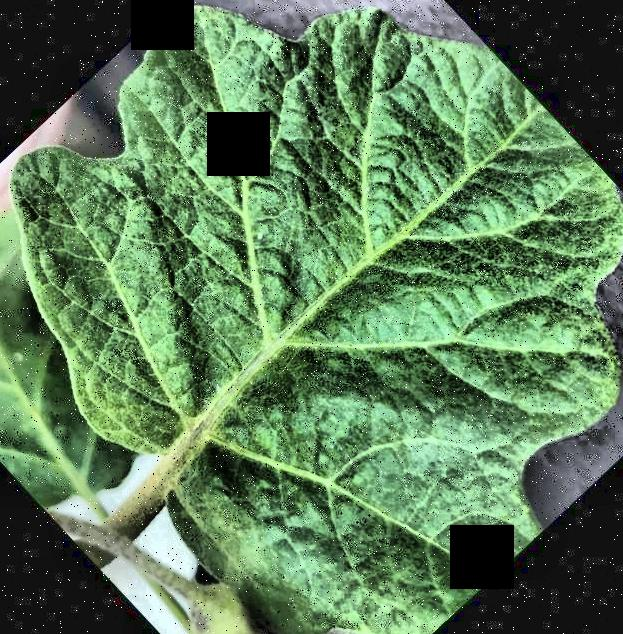HEALTHY: (0, 1, 623, 634)
